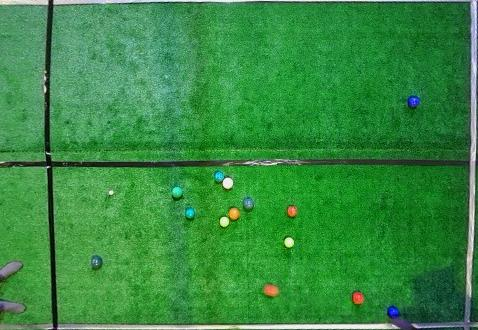blue: (388, 306, 399, 318), (409, 96, 420, 107)
green: (91, 256, 103, 269), (172, 186, 183, 199), (243, 198, 254, 210), (185, 207, 195, 220), (214, 171, 224, 182)
red: (264, 284, 278, 297), (228, 207, 240, 221), (352, 292, 364, 305), (222, 177, 233, 189), (287, 206, 297, 217)
vline: (1, 1, 60, 329), (461, 1, 477, 329)
white: (109, 190, 114, 195)
yellow: (284, 237, 294, 248), (220, 217, 229, 227)
